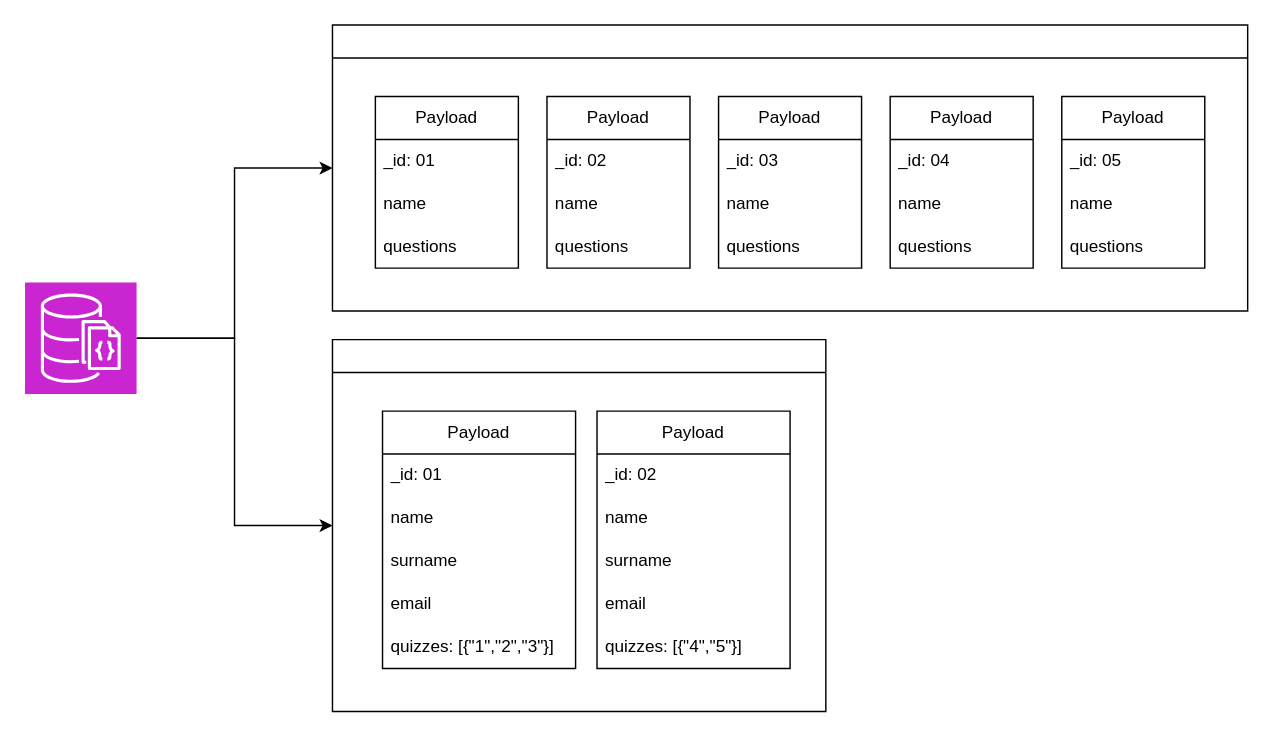
Some shapes in this 1273 by 736 pixel diagram are drawn without their labels. Here are the shapes that lost their labels. From the top down, the box of each, then its label:
(331, 24, 1248, 311): Collection: quizzes
(331, 338, 826, 711): Collection: users
